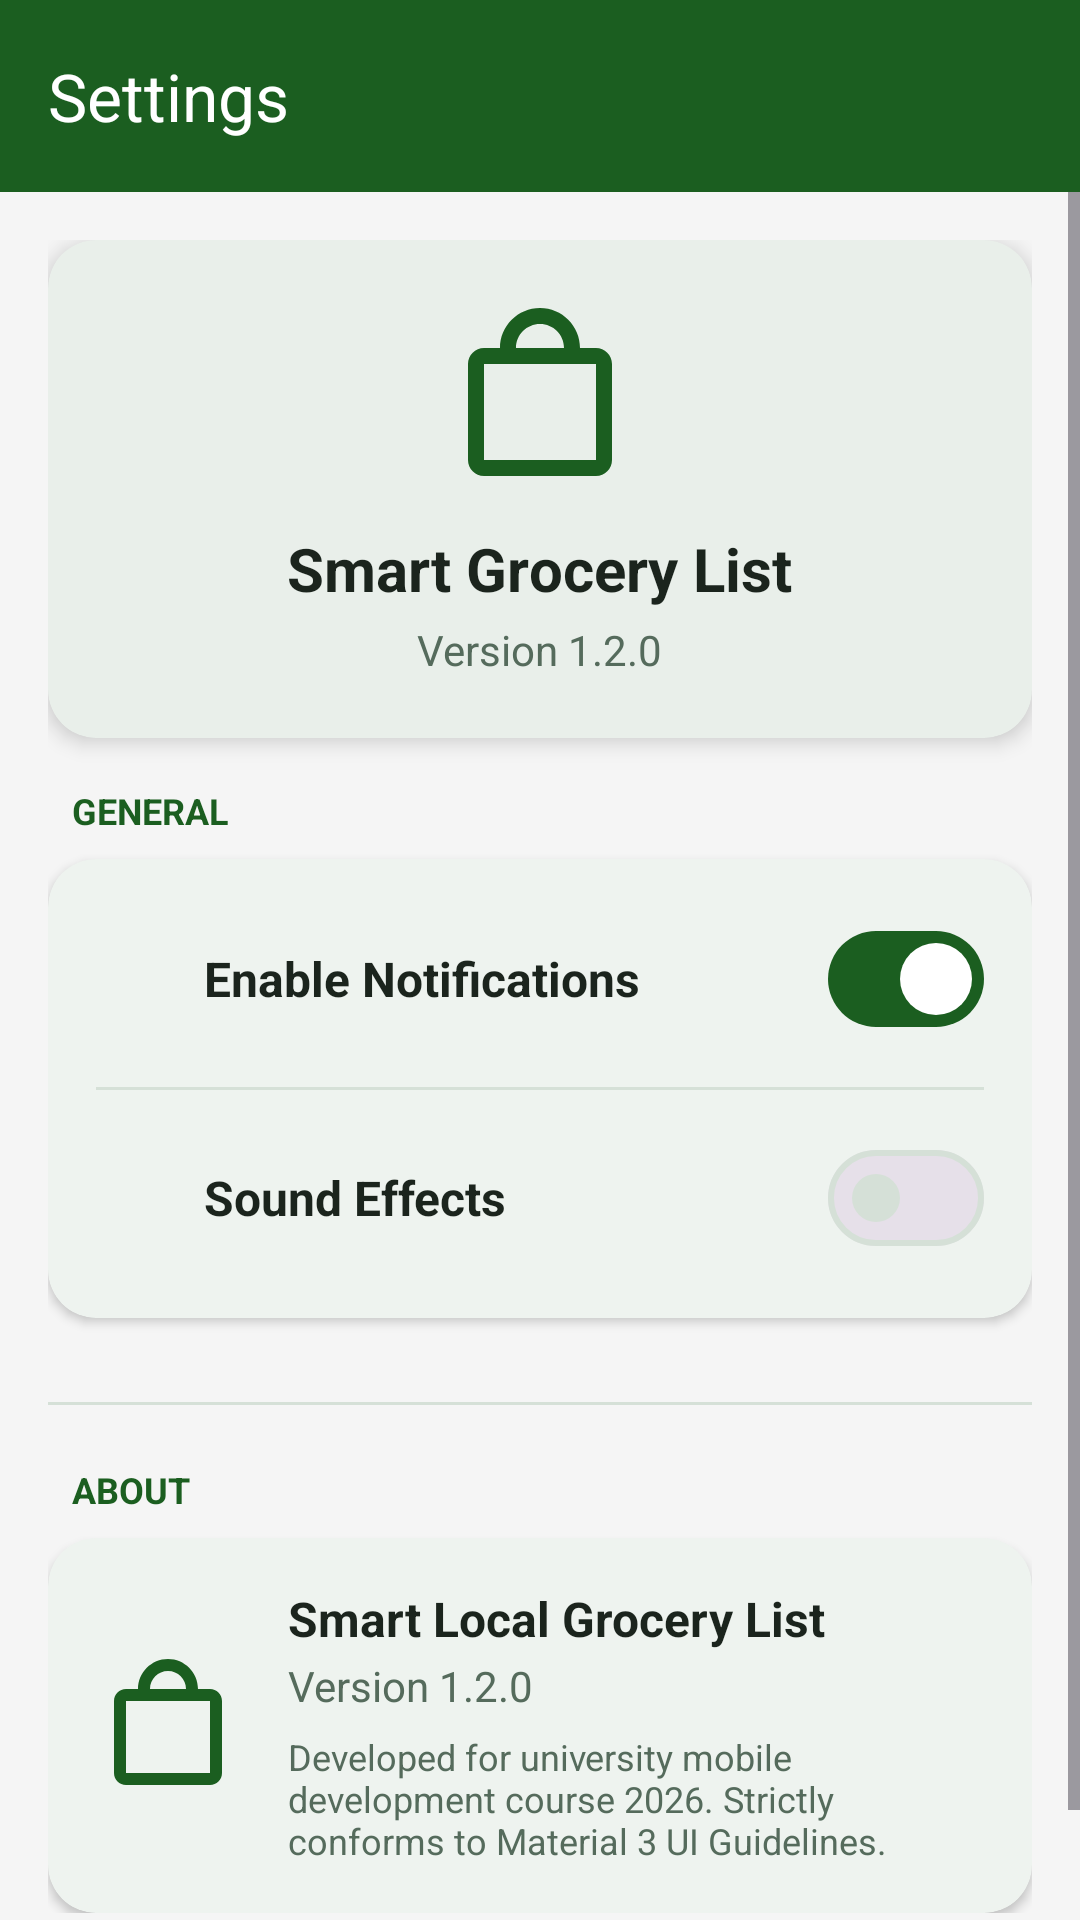

Where to tap for icons on this 1080w x 1920h app screen, as point (x, y):
App Icon: point (540, 392), point (168, 1722)
